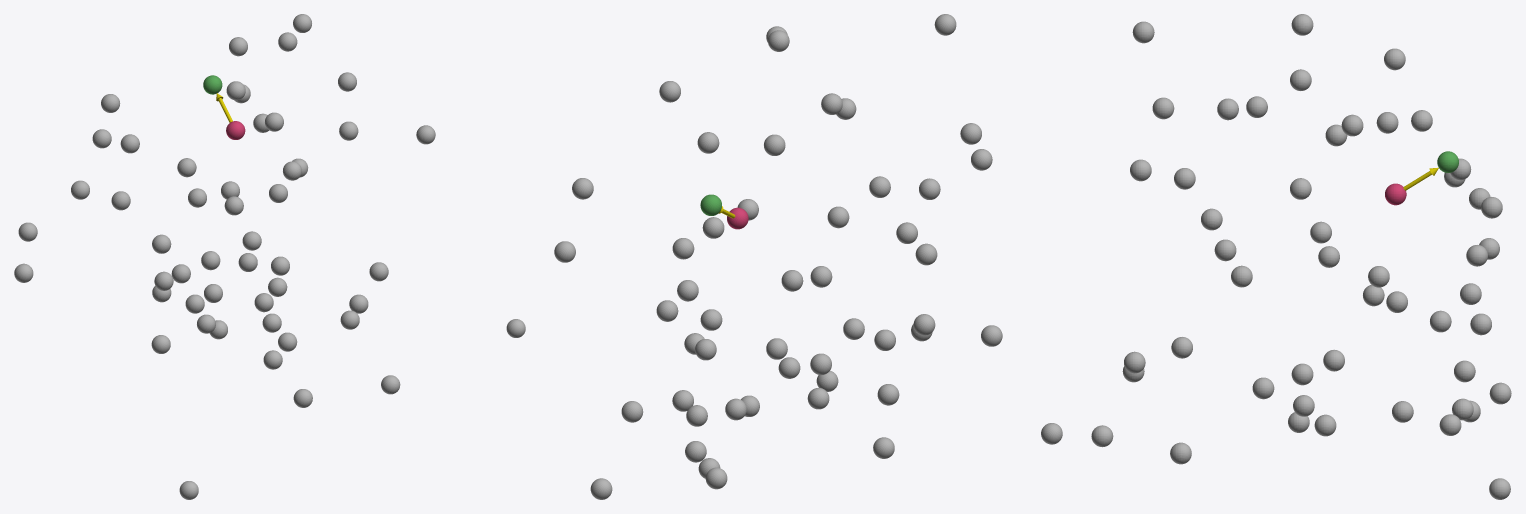
Rendered from kdtree_search.glb.
The picture shows the model from 3 angles, left to right: view 1: azimuth 30°, elevation 25°; view 2: azimuth 150°, elevation 25°; view 3: azimuth 270°, elevation 25°; orthographic projection. The views are drawn at different scales.
Size of the model in its own units: 20.56 by 20.7 by 19.3.
